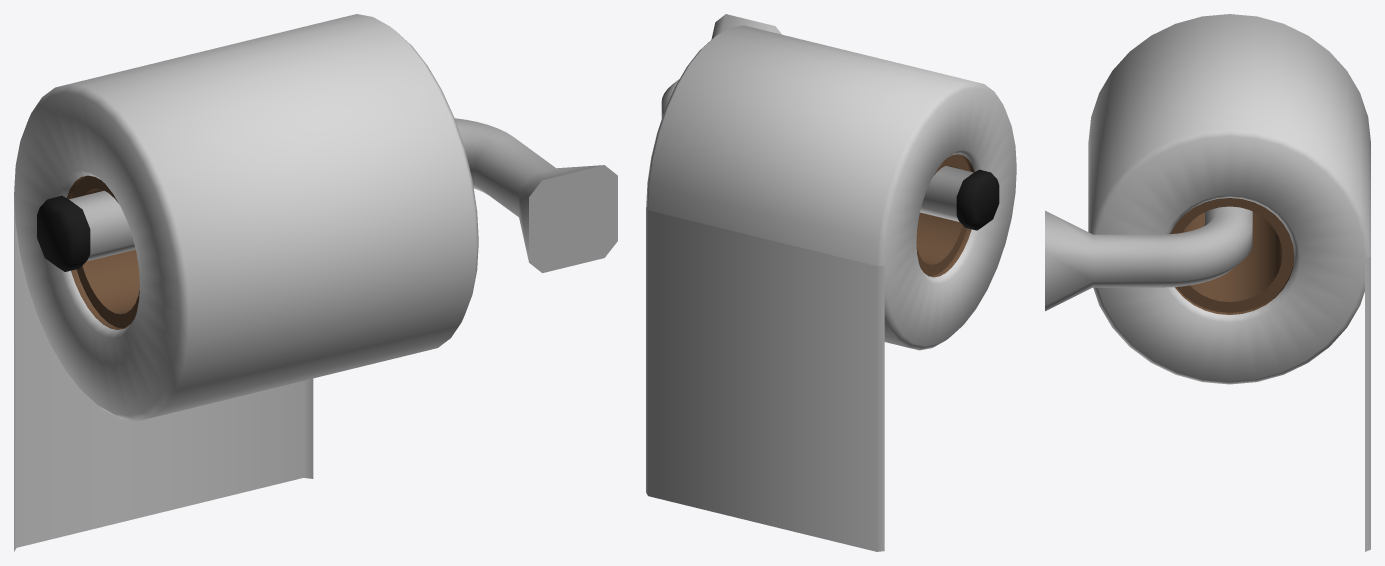
The model's file is toilet_paper.glb.
3 renders of one model, left to right at view 1: azimuth 30°, elevation 25°; view 2: azimuth 150°, elevation 25°; view 3: azimuth 270°, elevation 25°, orthographic. The views are drawn at different scales.
Parts seen in each view (by area): view 1: Cylinder.070, Cube.097; view 2: Cylinder.070, Cube.097; view 3: Cylinder.070, Cube.097.
Part boxes in pixels (x1,y1,x2,y2): Cylinder.070: (14, 14, 478, 551); Cube.097: (37, 118, 617, 272); Cylinder.070: (646, 25, 1016, 551); Cube.097: (661, 14, 999, 230); Cylinder.070: (1088, 14, 1370, 551); Cube.097: (1045, 206, 1252, 311).
Size of the model in its own units: 0.2672 by 0.2892 by 0.2029.
3 materials, 3 textured.
